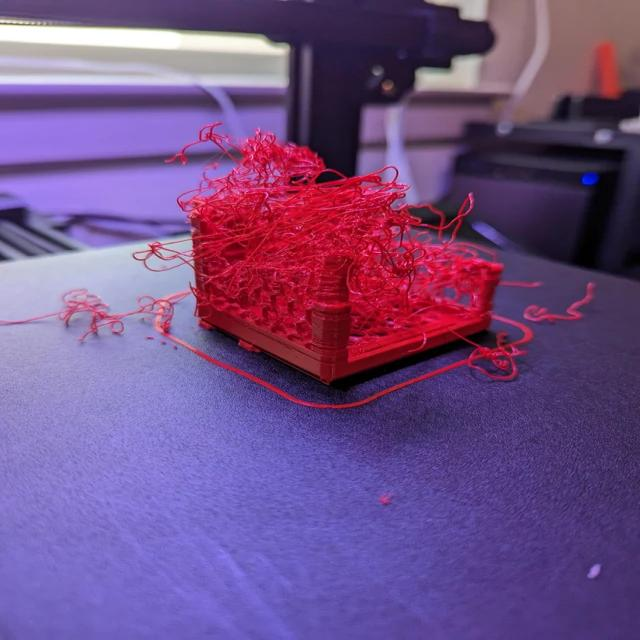Spaghetti: (172, 131, 522, 373)
